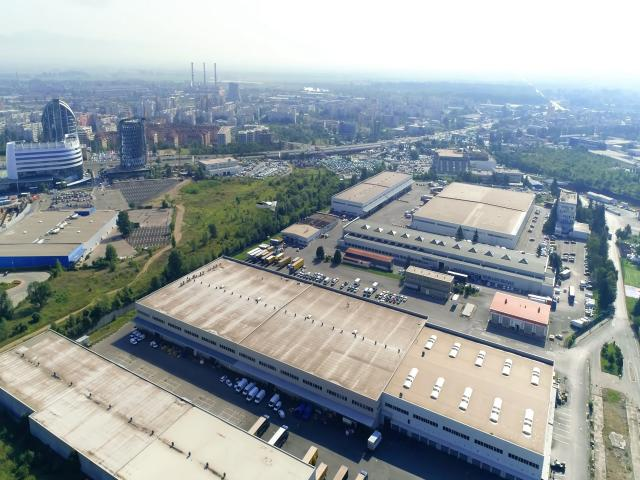plane: (255, 199, 279, 212)
